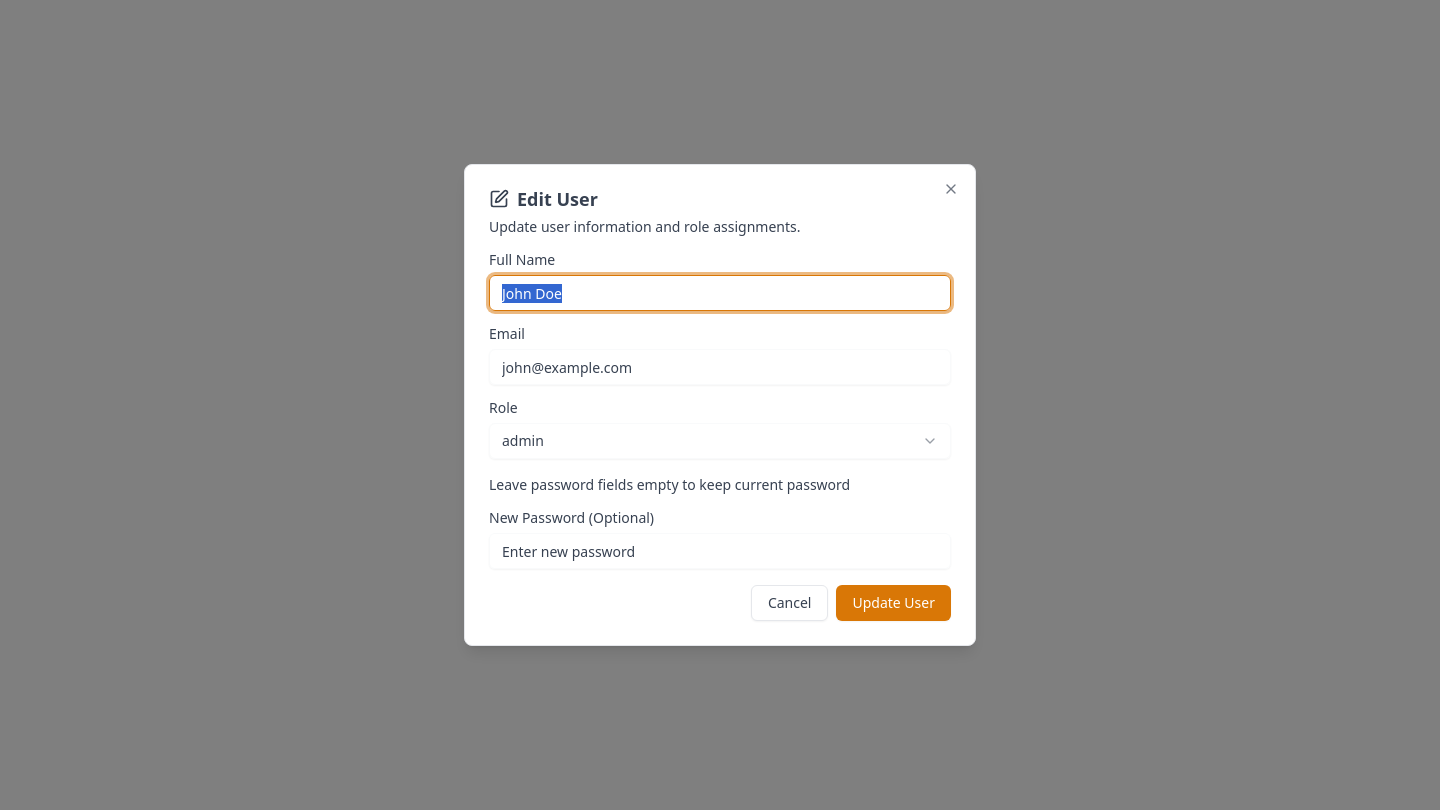
Test case: EditUserModal Component › validates password minimum length when provided
The width and height of the screenshot is (1440, 810).
Type "123" into the password field labelled "New Password (Optional)" at [720, 551], box [489,533,951,569]
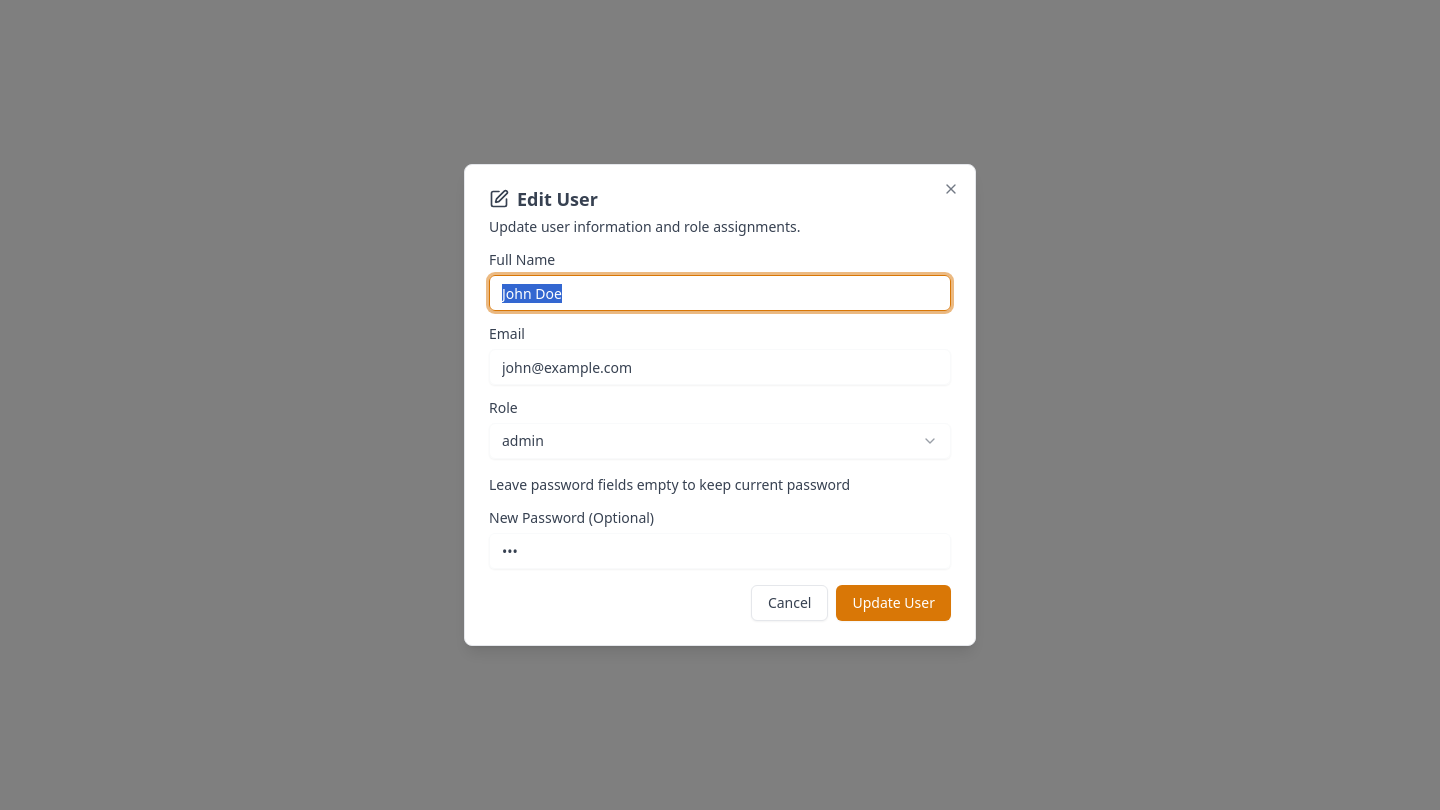
Click the button "Update User" at [894, 603], box [836,585,951,621]
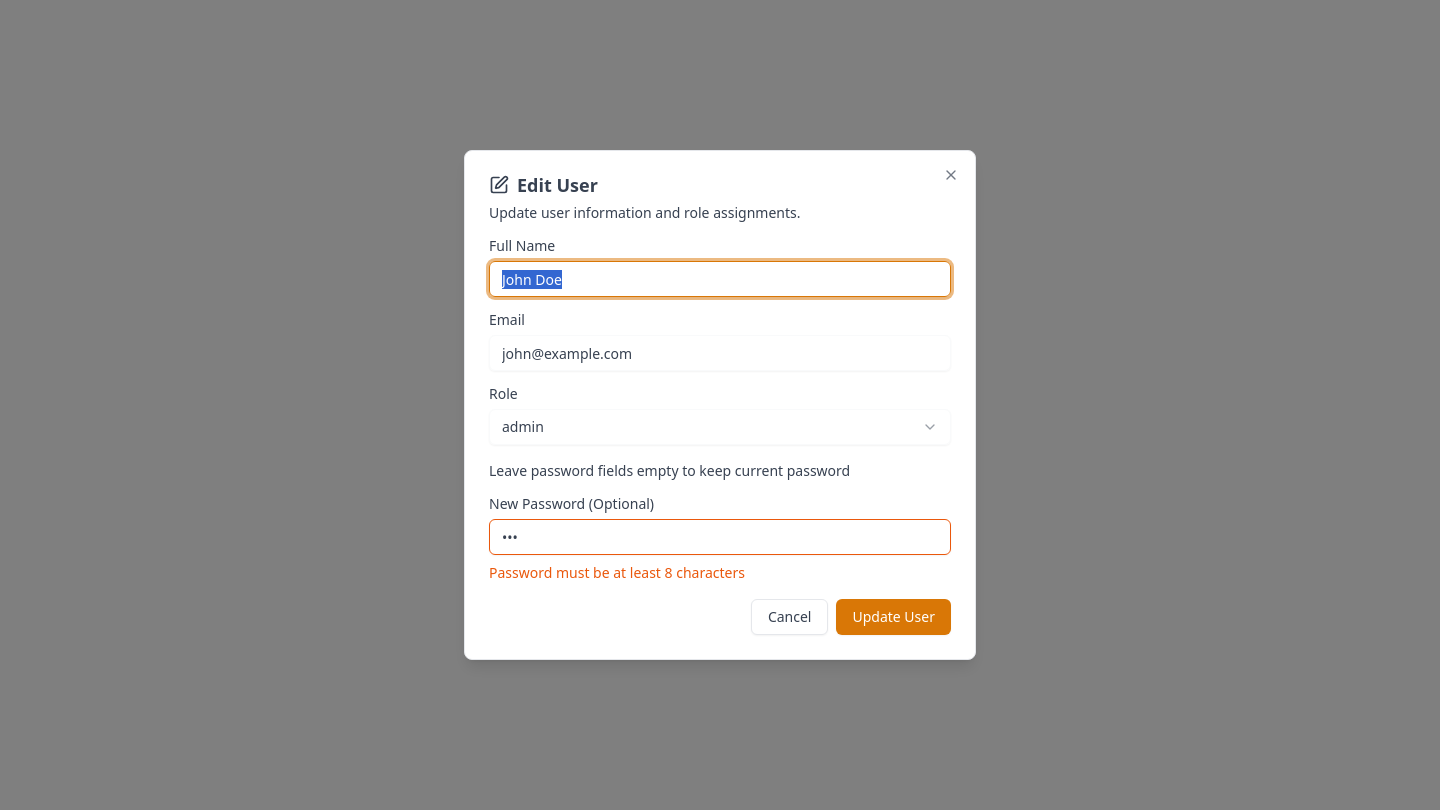
Result: the text "Password must be at least 8 characters" is shown at [489,563,745,582]
